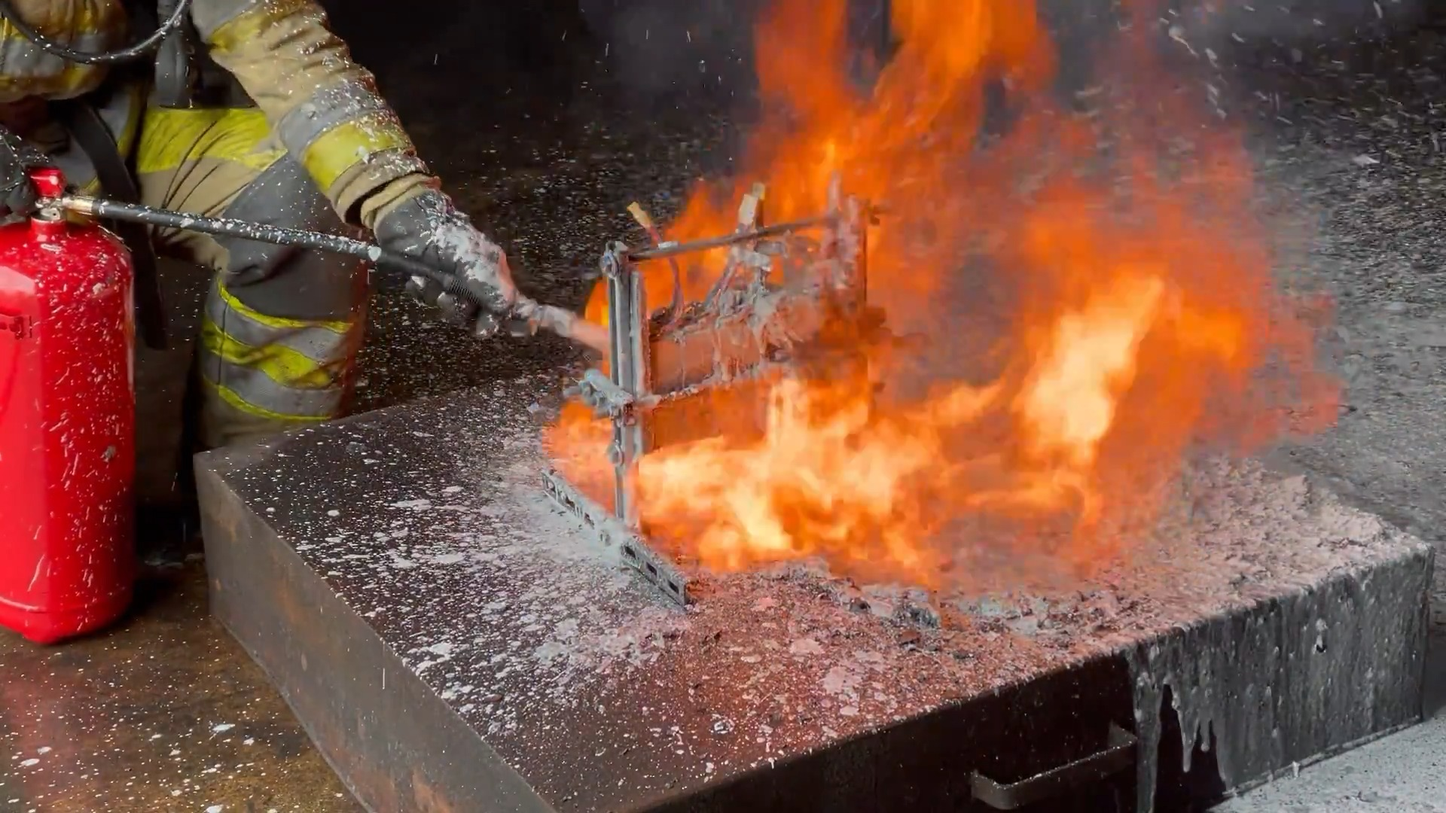fire: (540, 0, 1352, 604)
smoke: (526, 0, 777, 187)
